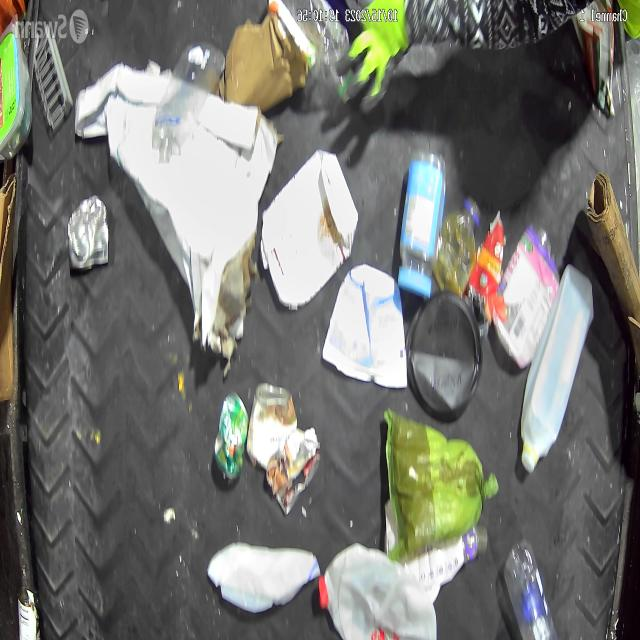can: (243, 375, 297, 473), (66, 193, 110, 277), (212, 389, 250, 483), (16, 585, 37, 640)
milk_jug: (257, 145, 361, 313), (517, 260, 595, 475), (316, 543, 441, 640)
plastic_bottle: (501, 536, 558, 640)
